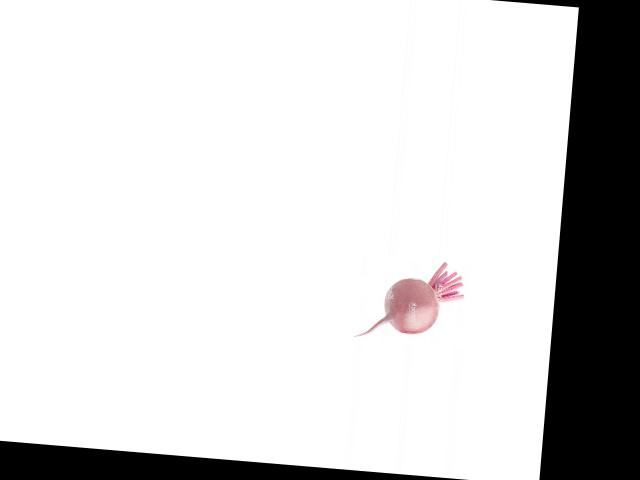beet: (355, 254, 466, 345)
